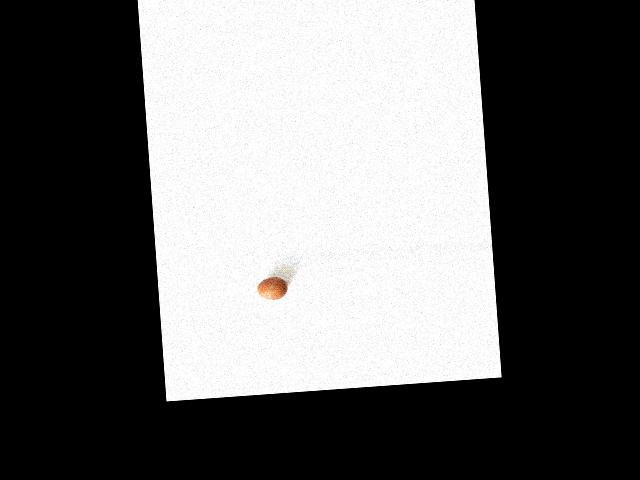egg: (256, 276, 288, 301)
